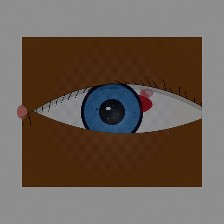hemorrhage_spot: (77, 69, 165, 140)
